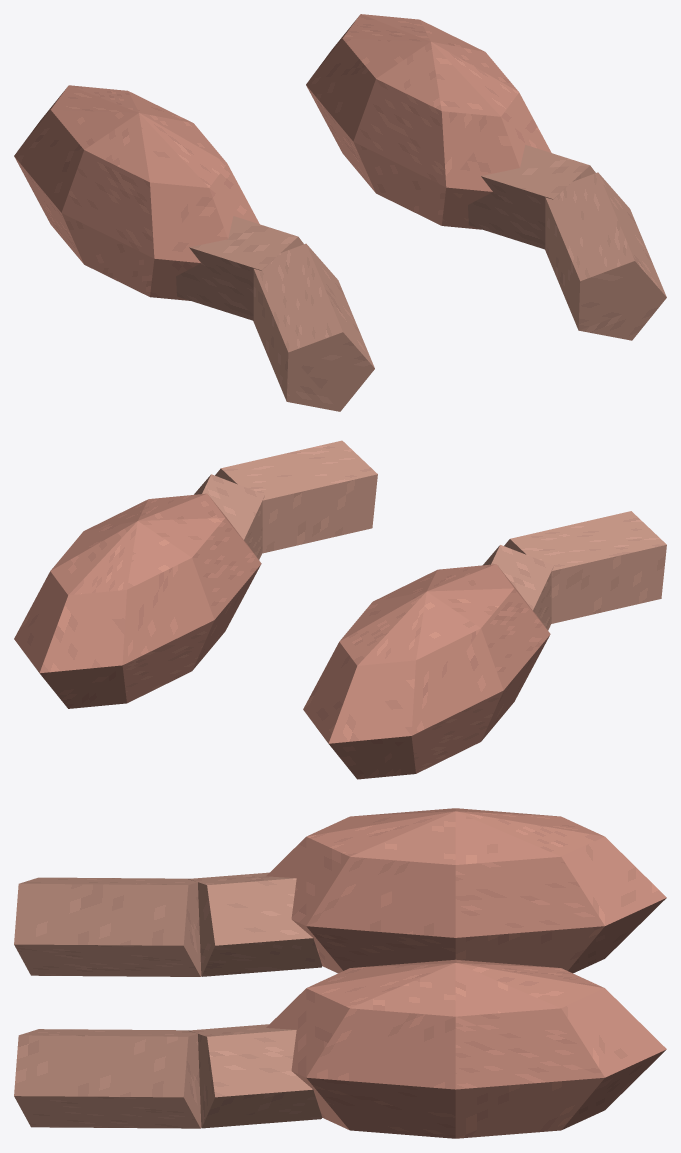
Rendered from froglegs.glb.
3 renders of one model, top to bottom at view 1: azimuth 30°, elevation 25°; view 2: azimuth 150°, elevation 25°; view 3: azimuth 270°, elevation 25°, orthographic. The views are drawn at different scales.
Visible parts, largest first — view 1: block_meaty thigh (×2), block_lower leg 1 (×2), block_lower leg 0 (×2); view 2: block_meaty thigh (×2), block_lower leg 1 (×2), block_lower leg 0 (×2); view 3: block_meaty thigh (×2), block_lower leg 1 (×2), block_lower leg 0 (×2).
Part boxes in pixels (x1,y1,x2,y2): block_meaty thigh (×2): [14, 14, 551, 300]; block_lower leg 1 (×2): [253, 172, 666, 411]; block_lower leg 0 (×2): [176, 145, 595, 320]; block_meaty thigh (×2): [14, 493, 550, 779]; block_lower leg 1 (×2): [215, 440, 666, 623]; block_lower leg 0 (×2): [194, 474, 554, 630]; block_meaty thigh (×2): [266, 808, 666, 1138]; block_lower leg 1 (×2): [14, 877, 201, 1128]; block_lower leg 0 (×2): [188, 872, 322, 1128].
Size of the model in its own units: 0.0734 by 0.0255 by 0.0873.
1 material, 1 textured.
